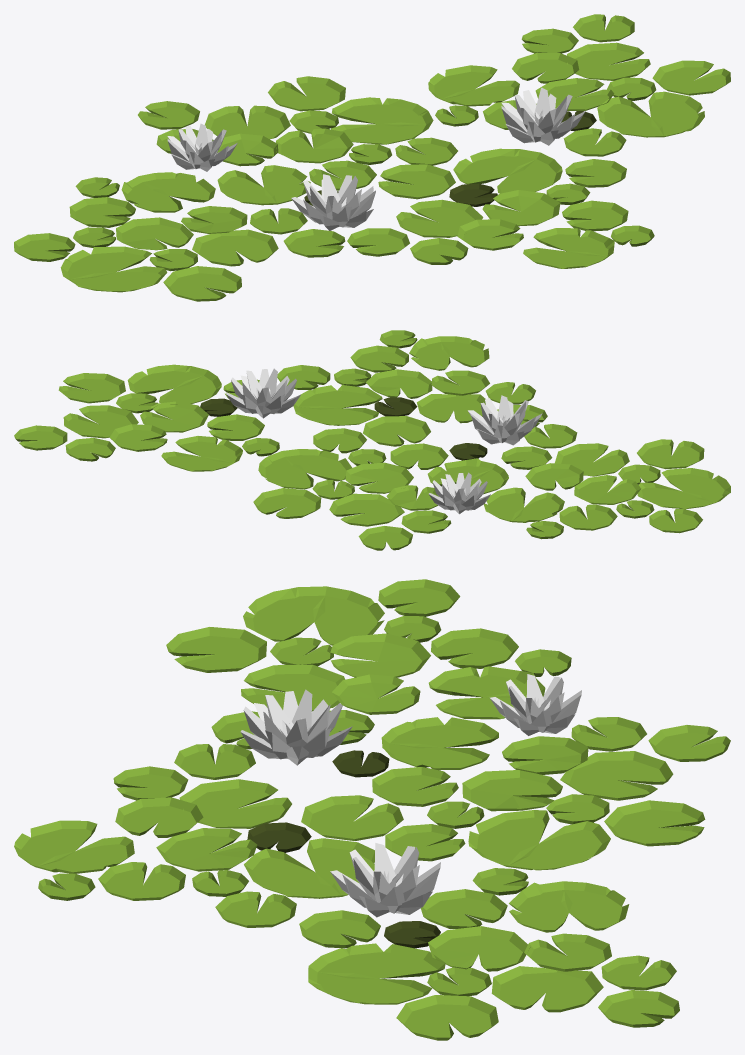
The model's file is SM_Waterlily_Group_D.fbx.
3 views of the same model, one above another, from view 1: azimuth 30°, elevation 25°; view 2: azimuth 150°, elevation 25°; view 3: azimuth 270°, elevation 25° (orthographic). The views are drawn at different scales.
Visible parts, largest first — view 1: waterlily-group-d; view 2: waterlily-group-d; view 3: waterlily-group-d.
Boxes of the visible parts, bbox=[...] form: waterlily-group-d: bbox=[14, 14, 730, 301]; waterlily-group-d: bbox=[14, 330, 730, 550]; waterlily-group-d: bbox=[14, 579, 730, 1040].
Bounding box in the file's own units: 3.15 × 0.1777 × 2.08.
